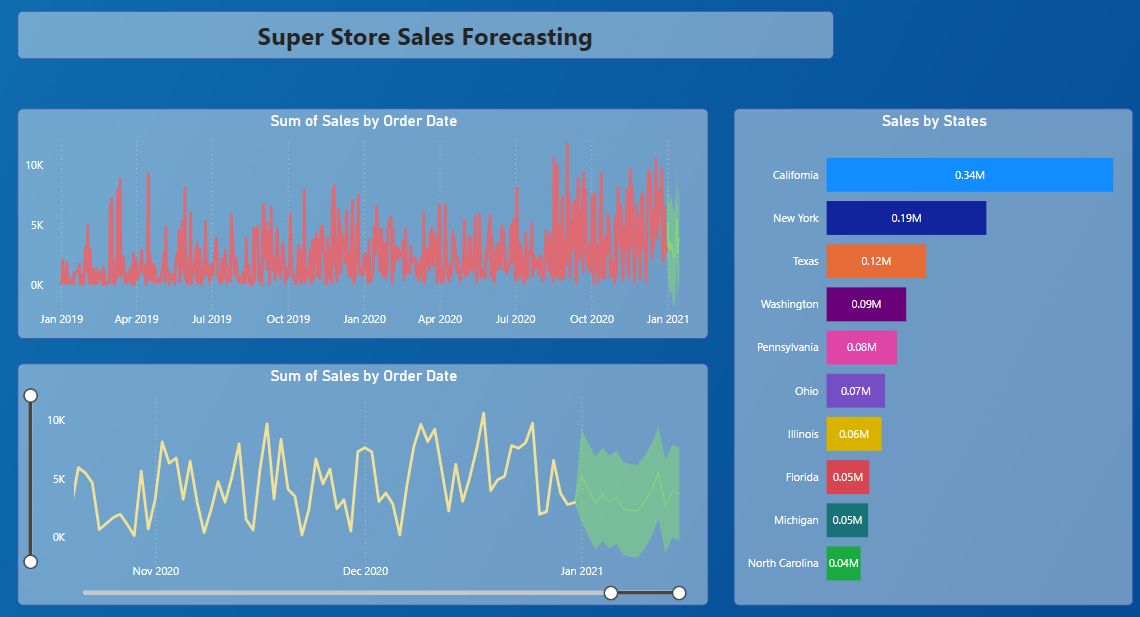

This screenshot's page, from the dashboard's own definition file:
{"tool":"powerbi","page":{"name":"Page 2","canvas":[1280,720],"ordinal":1},"visuals":[{"type":"lineChart","fields":{"Y":["Sum(SuperStore_Sales_Dataset.Sales)"],"Category":["SuperStore_Sales_Dataset.Order Date"]},"box":[30,128.6,758.6,252.9],"z":0},{"type":"lineChart","fields":{"Y":["Sum(SuperStore_Sales_Dataset.Sales)"],"Category":["SuperStore_Sales_Dataset.Order Date"]},"box":[30,408.6,758.6,265.7],"z":1000},{"type":"textbox","box":[30,21.4,895.7,52.9],"z":1001},{"type":"barChart","title":"Sales by States","fields":{"Y":["Sum(SuperStore_Sales_Dataset.Sales)"],"Category":["SuperStore_Sales_Dataset.State"],"Series":["SuperStore_Sales_Dataset.State"]},"box":[817.1,128.6,438.6,545.7],"z":1002}]}

Visuals, with their boxes on the page's 1280x720 design canvas (x1, y1, x2, y2). These are canvas units, not pixel positions in the 1140x617 screenshot, which may show the page scaled, cropped or inside an application window:
lineChart - Sum(SuperStore_Sales_Dataset.Sales) x SuperStore_Sales_Dataset.Order Date: (30,129,789,382)
lineChart - Sum(SuperStore_Sales_Dataset.Sales) x SuperStore_Sales_Dataset.Order Date: (30,409,789,674)
textbox: (30,21,926,74)
"Sales by States" barChart: (817,129,1256,674)
